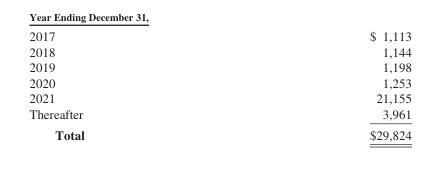table: (28, 28, 410, 141)
table column: (28, 28, 226, 141), (226, 28, 410, 141)
table row: (28, 105, 410, 123), (28, 123, 410, 141), (28, 43, 410, 59), (28, 74, 410, 90), (28, 28, 410, 43), (28, 59, 410, 74), (28, 90, 410, 105)
